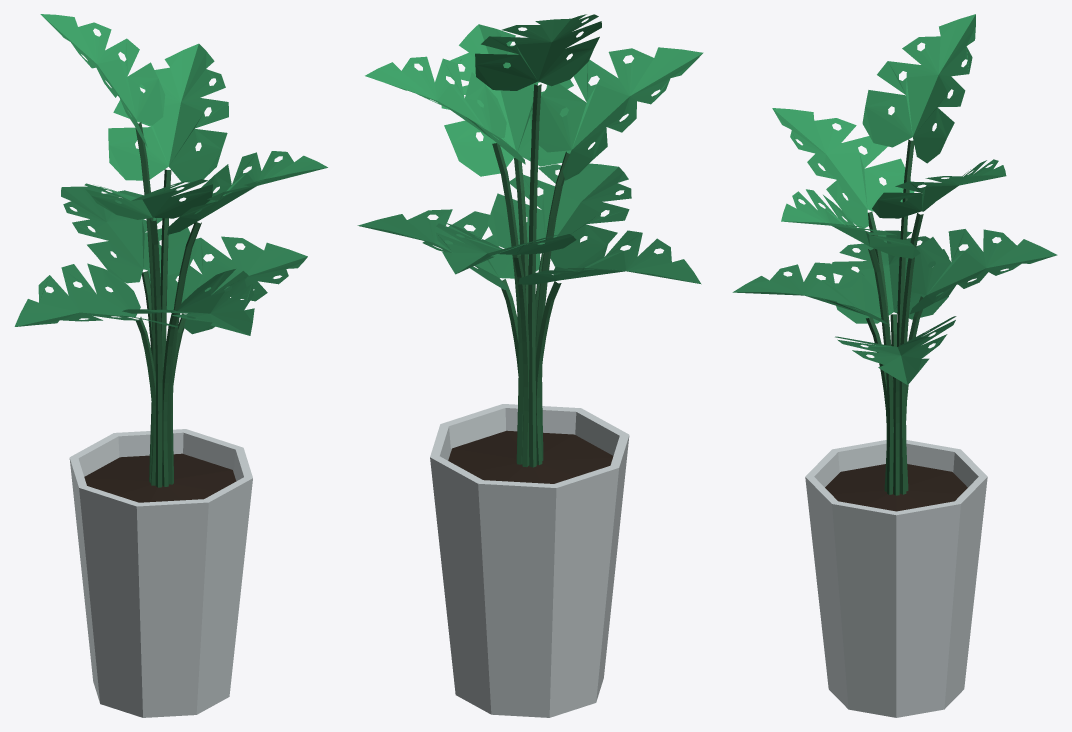
Rendered from Office_Indoor_Plant.glb.
3 views of the same model, side by side, from view 1: azimuth 30°, elevation 25°; view 2: azimuth 150°, elevation 25°; view 3: azimuth 270°, elevation 25° (orthographic). The views are drawn at different scales.
Visible parts, largest first — view 1: Pot_Body, Leaf_4, Leaf_5, Leaf_6, Leaf_3, Leaf_7, Soil, Leaf_2, Leaf_1, Leaf_8, Stem_8, Stem_2 (+4 smaller); view 2: Pot_Body, Leaf_8, Leaf_1, Leaf_6, Leaf_2, Soil, Leaf_4, Leaf_7, Leaf_3, Stem_6, Leaf_5, Stem_4 (+4 smaller); view 3: Pot_Body, Leaf_6, Leaf_8, Leaf_5, Soil, Leaf_1, Leaf_7, Leaf_2, Leaf_4, Leaf_3, Stem_4, Stem_2 (+3 smaller).
Part boxes in pixels (<box>): Pot_Body: <box>69,429,252,717</box>; Leaf_4: <box>108,43,228,182</box>; Leaf_5: <box>61,186,196,283</box>; Leaf_6: <box>40,14,165,147</box>; Leaf_3: <box>148,236,307,334</box>; Leaf_7: <box>14,263,178,327</box>; Soil: <box>84,453,236,502</box>; Leaf_2: <box>167,151,327,234</box>; Leaf_1: <box>122,269,254,335</box>; Leaf_8: <box>84,179,212,219</box>; Stem_8: <box>149,218,162,487</box>; Stem_2: <box>167,222,201,484</box>; Pot_Body: <box>430,404,629,717</box>; Leaf_8: <box>530,47,703,180</box>; Leaf_1: <box>487,163,631,270</box>; Leaf_6: <box>475,14,601,90</box>; Leaf_2: <box>441,24,573,176</box>; Soil: <box>448,430,613,483</box>; Leaf_4: <box>365,56,525,164</box>; Leaf_7: <box>518,230,701,284</box>; Leaf_3: <box>357,209,540,289</box>; Stem_6: <box>528,84,541,467</box>; Leaf_5: <box>436,222,576,274</box>; Stem_4: <box>492,143,523,464</box>; Pot_Body: <box>805,440,987,717</box>; Leaf_6: <box>862,14,975,163</box>; Leaf_8: <box>772,108,914,228</box>; Leaf_5: <box>904,229,1057,314</box>; Soil: <box>825,464,967,511</box>; Leaf_1: <box>732,262,889,324</box>; Leaf_7: <box>831,230,948,323</box>; Leaf_2: <box>781,189,920,258</box>; Leaf_4: <box>872,159,1006,218</box>; Leaf_3: <box>835,316,956,385</box>; Stem_4: <box>899,213,923,494</box>; Stem_2: <box>868,248,893,494</box>.
Size of the model in its own units: 0.6494 by 1.35 by 0.6245.
